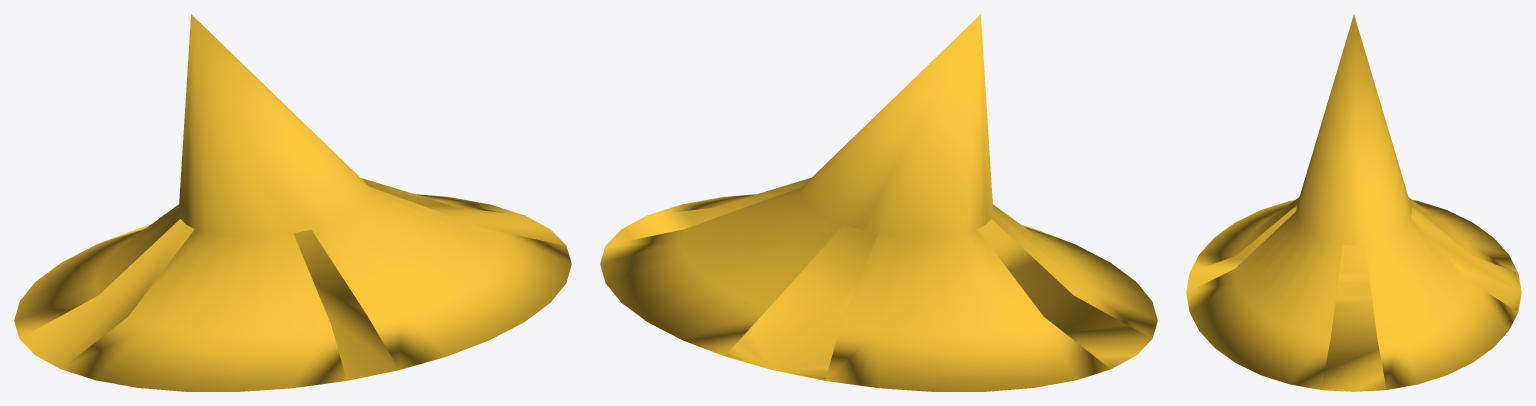
File: Banana.fbx
3 renders of one model, left to right at view 1: azimuth 30°, elevation 25°; view 2: azimuth 150°, elevation 25°; view 3: azimuth 270°, elevation 25°, orthographic. The views are drawn at different scales.
Parts seen in each view (by area): view 1: Cone; view 2: Cone; view 3: Cone.
Part boxes in pixels (bbox=[...]): Cone: bbox=[14, 14, 571, 391]; Cone: bbox=[600, 14, 1157, 391]; Cone: bbox=[1186, 15, 1521, 391].
Bounding box in the file's own units: 14.77 × 8.3 × 10.54.
